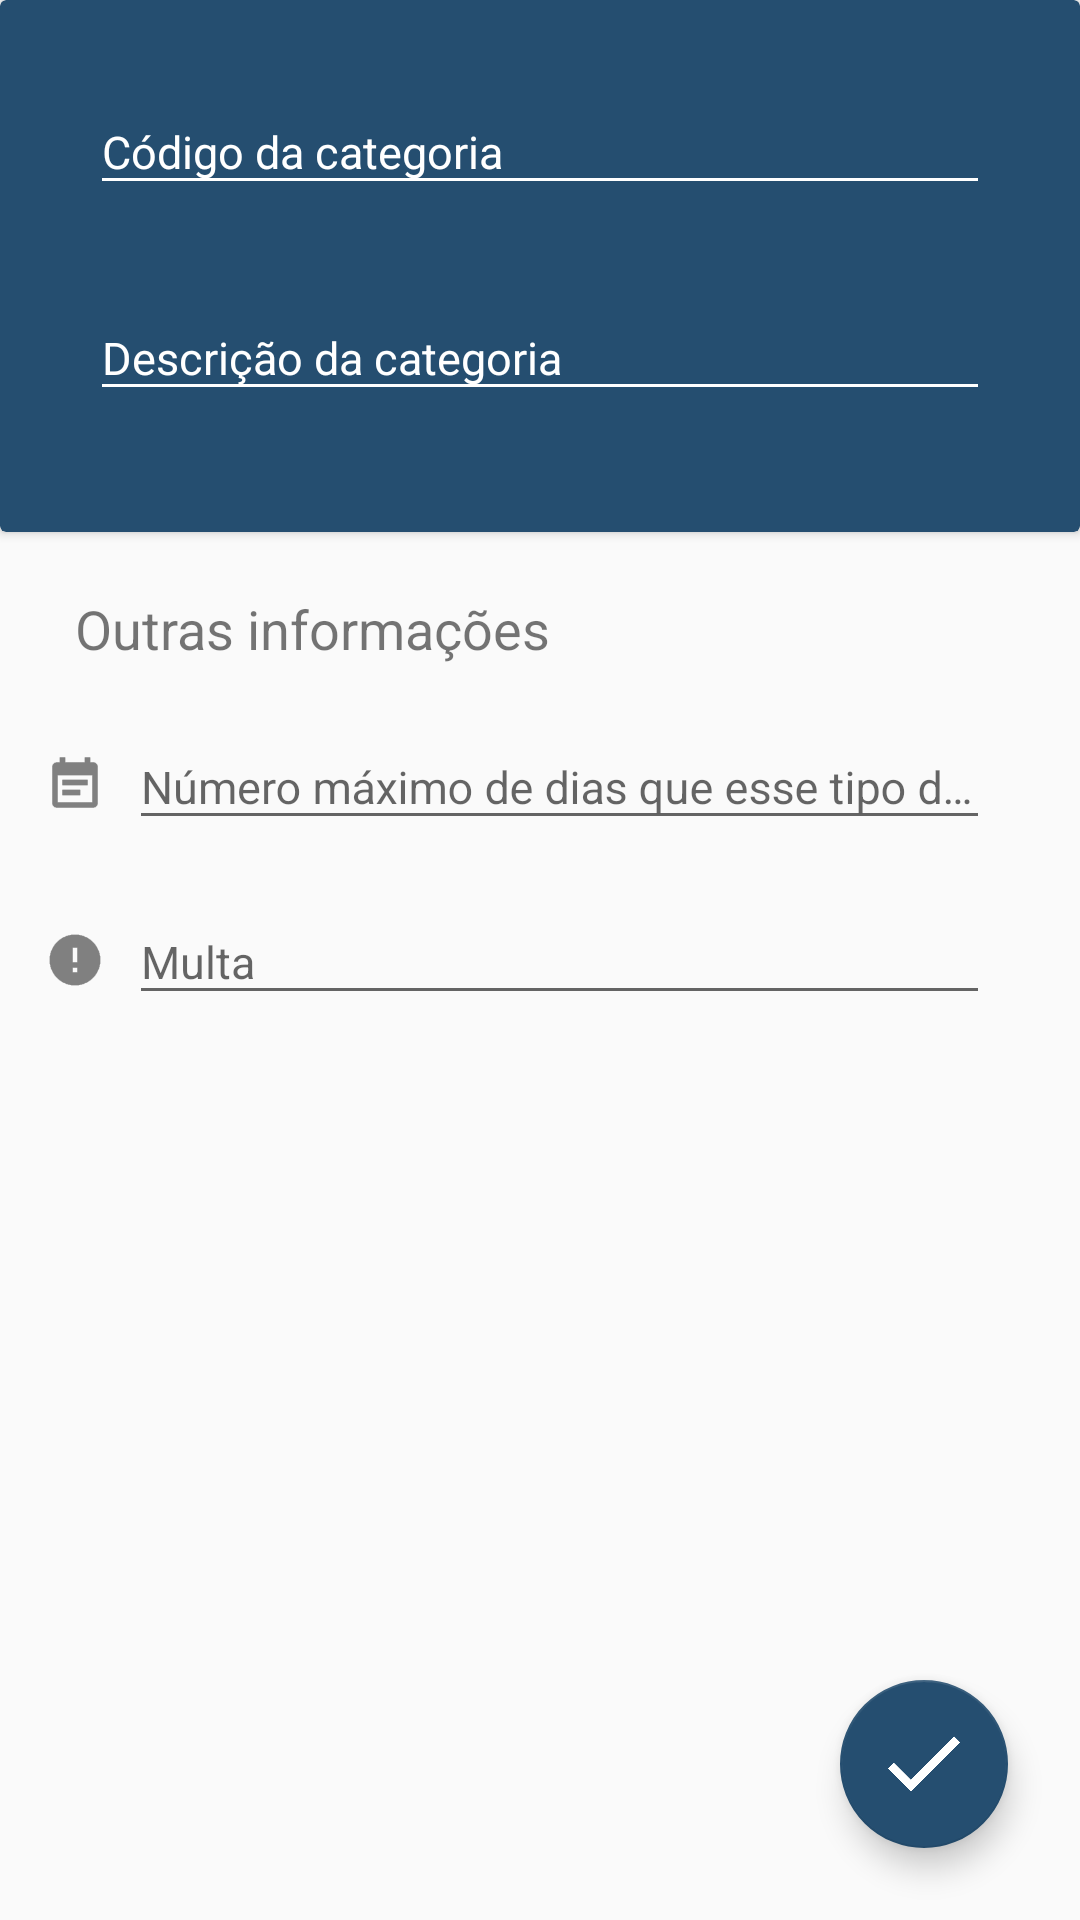

Locate icon controls on the screen. Image size 1080 × 1920, boxes as (x1, y1, x2, y2).
calendar event: (52, 757, 98, 808)
done: (840, 1680, 1008, 1848)
